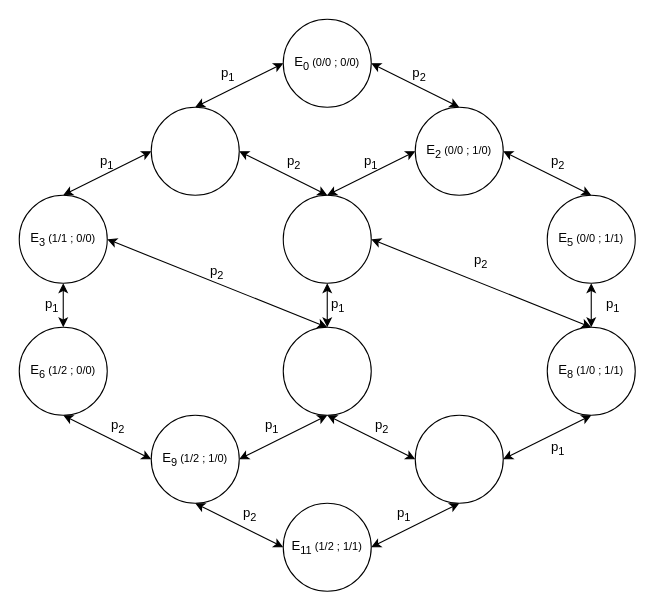
Some shapes in this 655 by 611 pixel diagram are drawn without their labels. Each missing label, with the centre of its shape:
E 1 (1/0 ; 0/0): pixel 194 150
E 10 (1/1 ; 1/1): pixel 458 458
E 4 (1/0 ; 1/0): pixel 326 238
E 7 (1/1 ; 1/0): pixel 326 370
